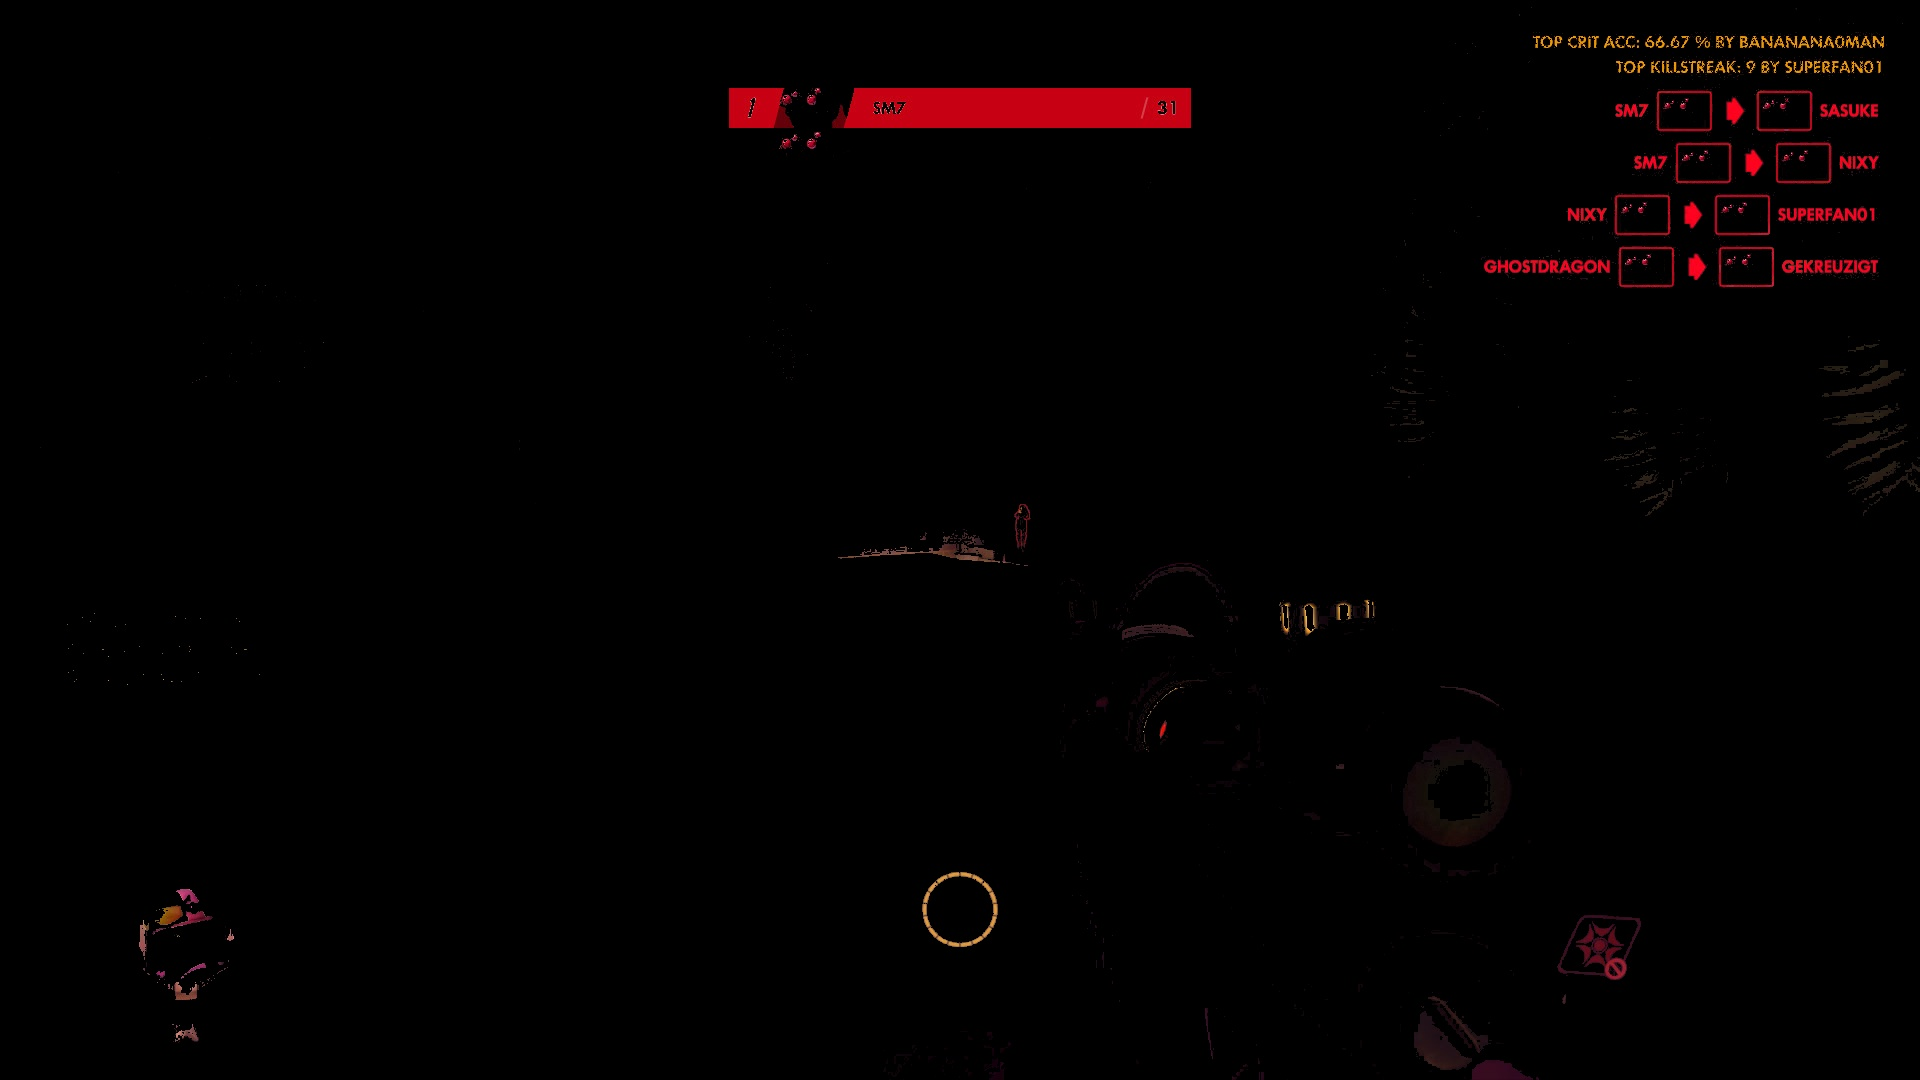widowmaker: (1010, 502, 1033, 556)
